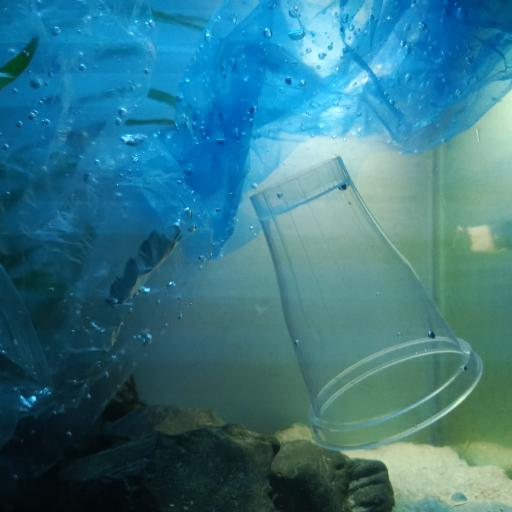plastic_bag: (2, 2, 216, 493), (160, 0, 512, 256)
plastic_cup: (250, 154, 486, 454)
